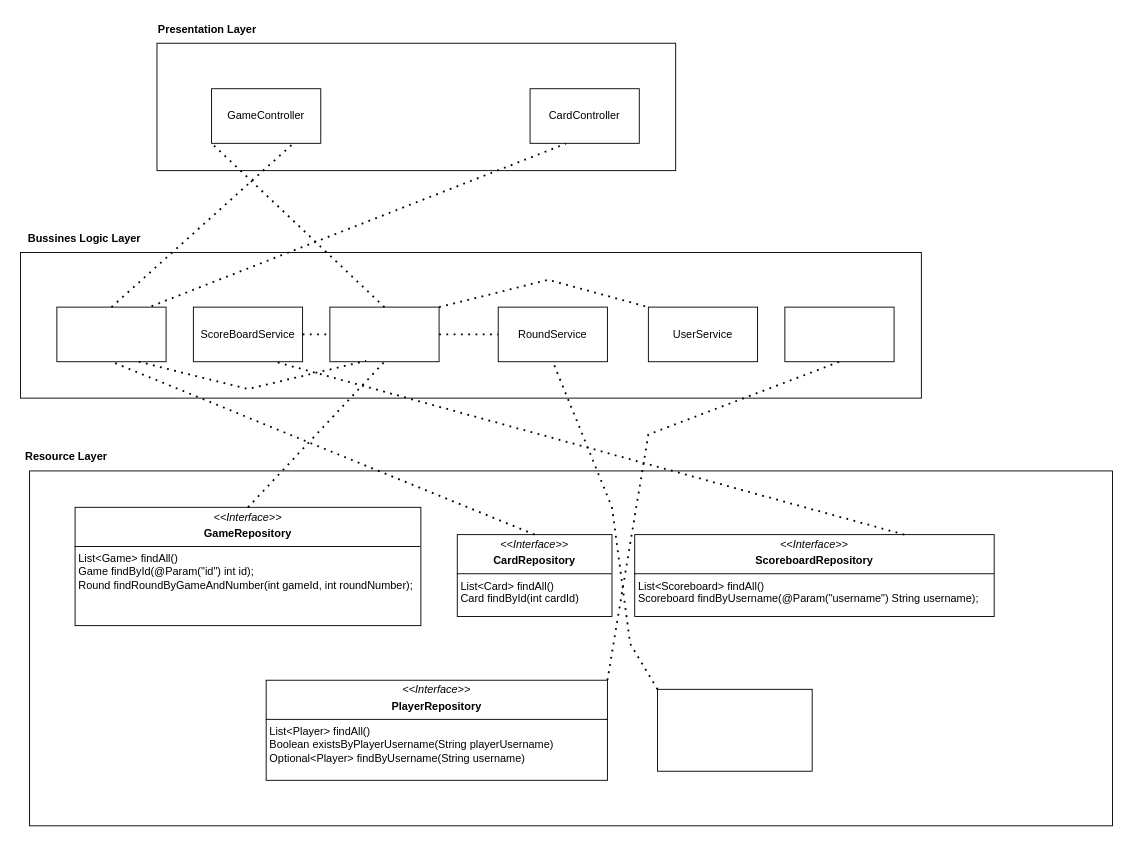
Some shapes in this 1128 by 842 pixel diagram are drawn without their labels. The shapes that lost their labels are listed below. From the top down, each one's centre as x and y in pixels, then its label:
At pixel 111 334: "CardService".
At pixel 384 334: "GameService".
At pixel 839 334: "PlayerService".
At pixel 734 729: "<<Interface>> RoundRepository List<Round> findAll() Round findById(int id)".
